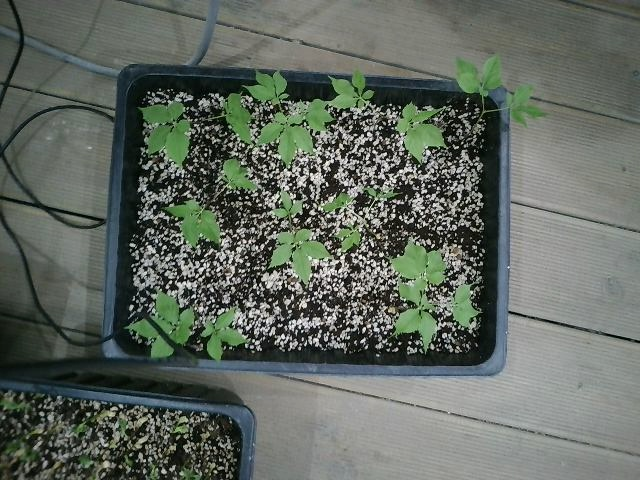수확기: (125, 86, 193, 161), (134, 290, 203, 362), (483, 87, 553, 152), (376, 281, 444, 345), (263, 99, 323, 165), (441, 263, 496, 334), (390, 99, 447, 165), (234, 55, 292, 116), (386, 231, 440, 291), (208, 303, 257, 368), (172, 199, 227, 256), (450, 64, 507, 116), (314, 217, 376, 263), (259, 224, 313, 276), (342, 66, 391, 118), (243, 180, 300, 224), (204, 87, 250, 139), (302, 83, 342, 135), (215, 157, 256, 207), (359, 180, 399, 219), (317, 183, 345, 225)
